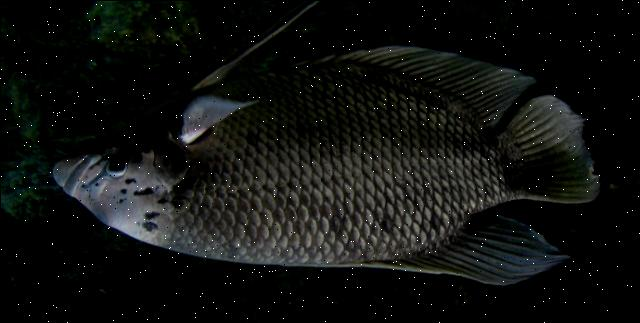Mulut: (28, 130, 134, 216)
Sirip Anal: (266, 31, 546, 137)
Sirip Dada: (169, 82, 275, 150)
Sirip Ekor: (490, 84, 608, 212)
Sirip Perut: (170, 0, 365, 107)
Sirip Punggung: (346, 211, 580, 297)
